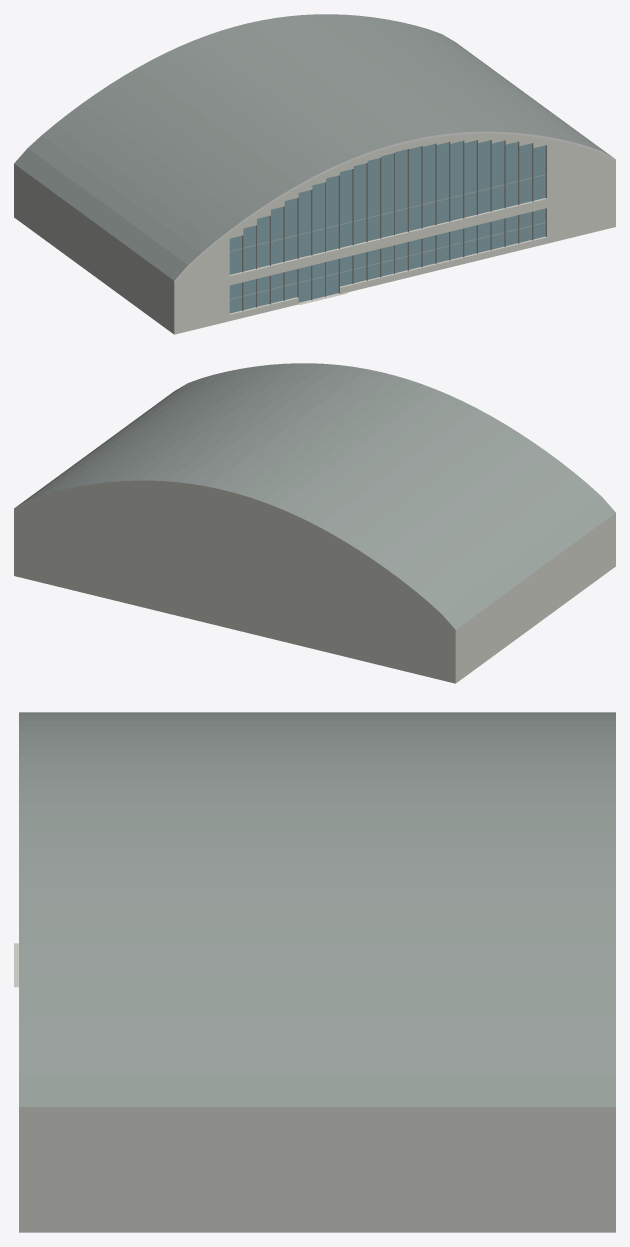
The picture shows the model from 3 angles, top to bottom: view 1: azimuth 30°, elevation 25°; view 2: azimuth 150°, elevation 25°; view 3: azimuth 270°, elevation 25°; orthographic projection. The views are drawn at different scales.
Parts seen in each view (by area): view 1: osm761589241__roof, osm761589241__wall, osm761589241__glass, osm761589241__trim, osm761589241__frame; view 2: osm761589241__roof, osm761589241__wall; view 3: osm761589241__roof, osm761589241__wall.
Boxes of the visible parts, x1=… form: osm761589241__roof: x1=14, y1=14, x2=613, y2=280; osm761589241__wall: x1=14, y1=133, x2=615, y2=334; osm761589241__glass: x1=229, y1=140, x2=545, y2=313; osm761589241__trim: x1=174, y1=131, x2=615, y2=282; osm761589241__frame: x1=229, y1=174, x2=545, y2=299; osm761589241__roof: x1=16, y1=363, x2=615, y2=629; osm761589241__wall: x1=14, y1=480, x2=615, y2=683; osm761589241__roof: x1=19, y1=712, x2=615, y2=1106; osm761589241__wall: x1=19, y1=1107, x2=615, y2=1232.
Bounding box in the file's own units: 47.27 × 14.01 × 29.97.
